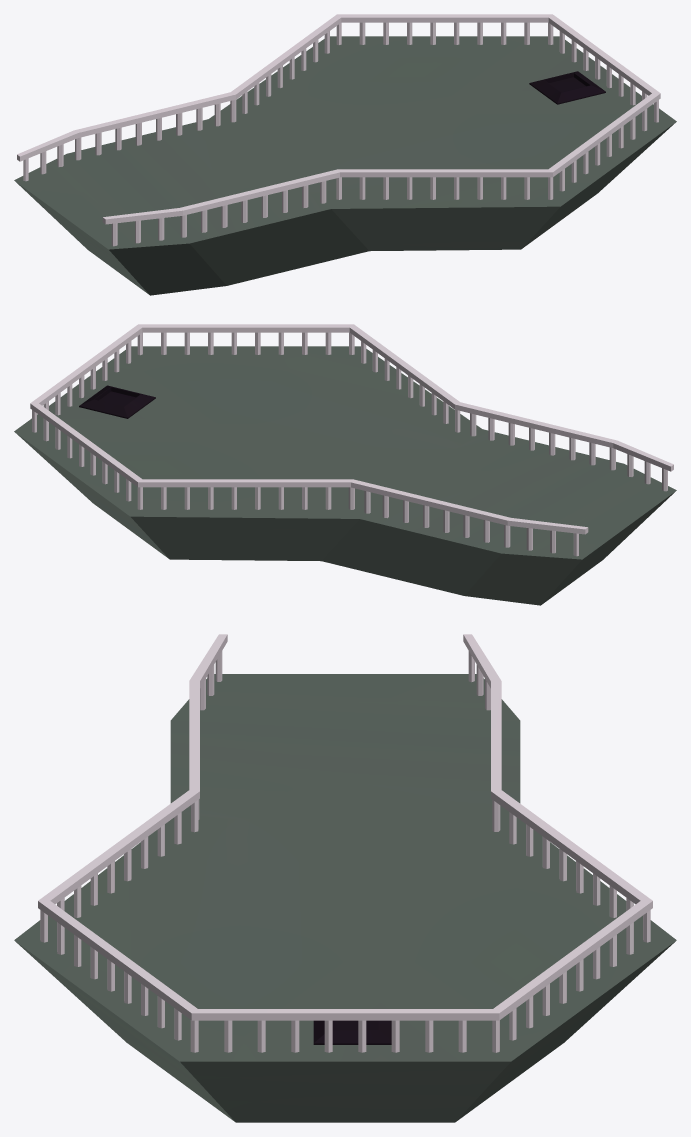
The model's file is lvl1_isle_L_switch1.glb.
The picture shows the model from 3 angles, top to bottom: view 1: azimuth 30°, elevation 25°; view 2: azimuth 150°, elevation 25°; view 3: azimuth 270°, elevation 25°; orthographic projection. The views are drawn at different scales.
Parts seen in each view (by area): view 1: lvl1_isl_L_switch1; view 2: lvl1_isl_L_switch1; view 3: lvl1_isl_L_switch1.
Part boxes in pixels (box(x1,y1,x2,y2)): lvl1_isl_L_switch1: box(14, 14, 676, 295); lvl1_isl_L_switch1: box(14, 324, 676, 605); lvl1_isl_L_switch1: box(14, 634, 676, 1122).
Bounding box in the file's own units: 17.19 × 2.94 × 12.42.
Materials: 1 (1 with a texture image).
